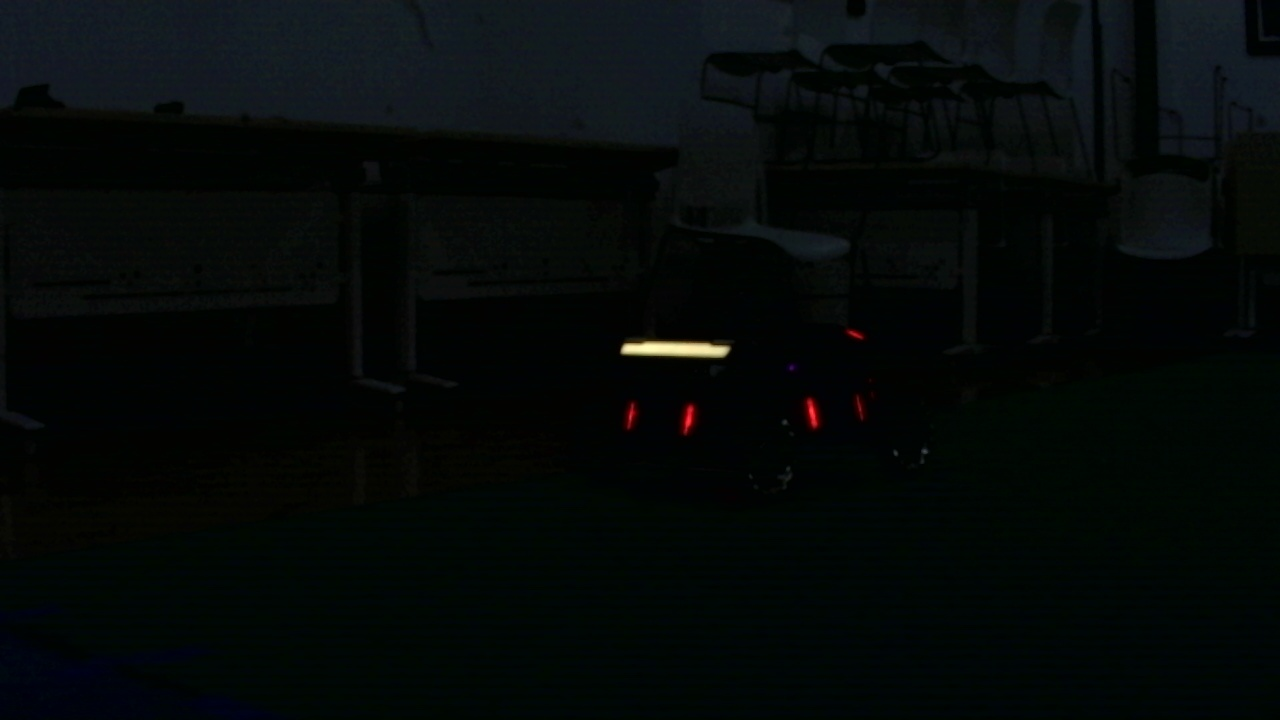lamp: (677, 400, 699, 435), (804, 398, 822, 430), (623, 399, 638, 434)
pair1: (621, 402, 699, 432)
